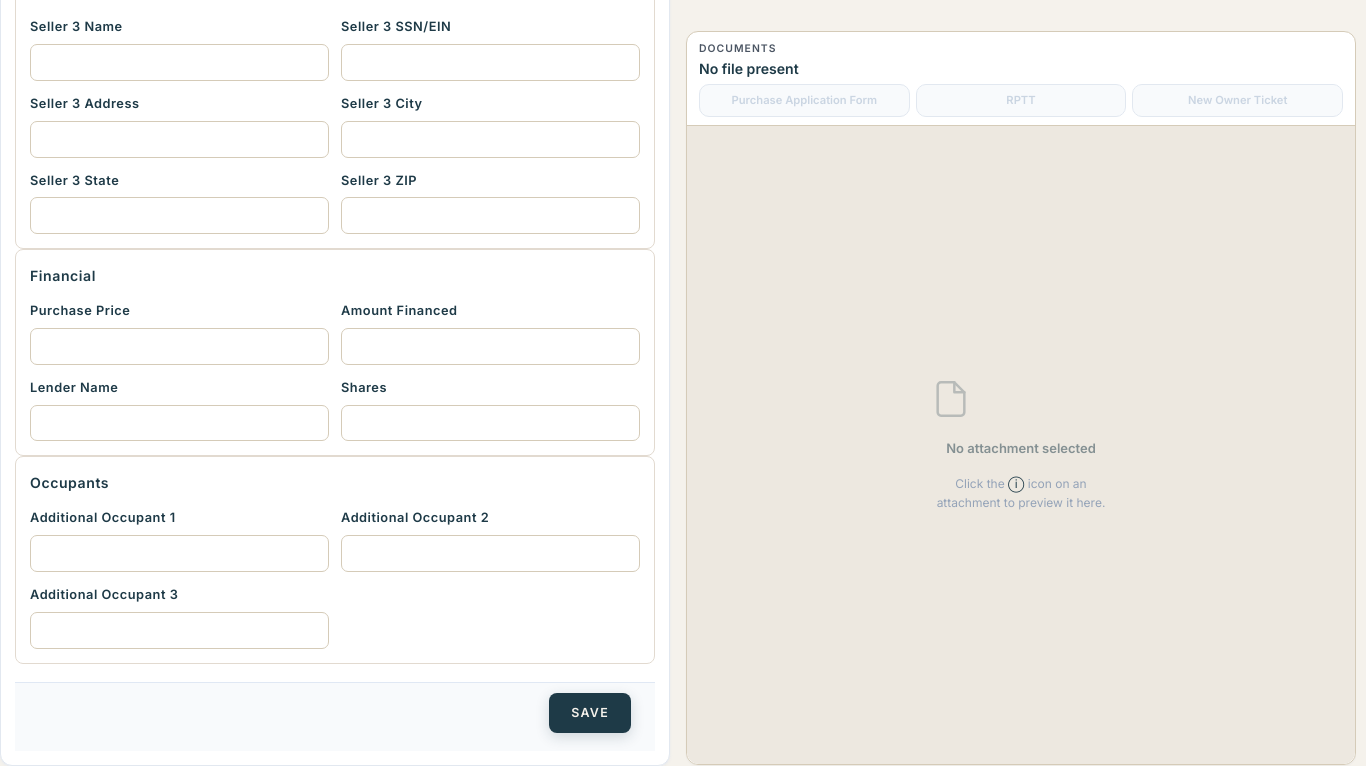
NewOwnerTicketTab — save flow against an existing ticket › blocks save and shows an error banner when required fields are missing
(page scrolled)
What coordinates should you click on to do the following:
click the button "Save"
I would click on:
 (590, 713)
Its box is 549,693 -> 631,733.
(page scrolled)
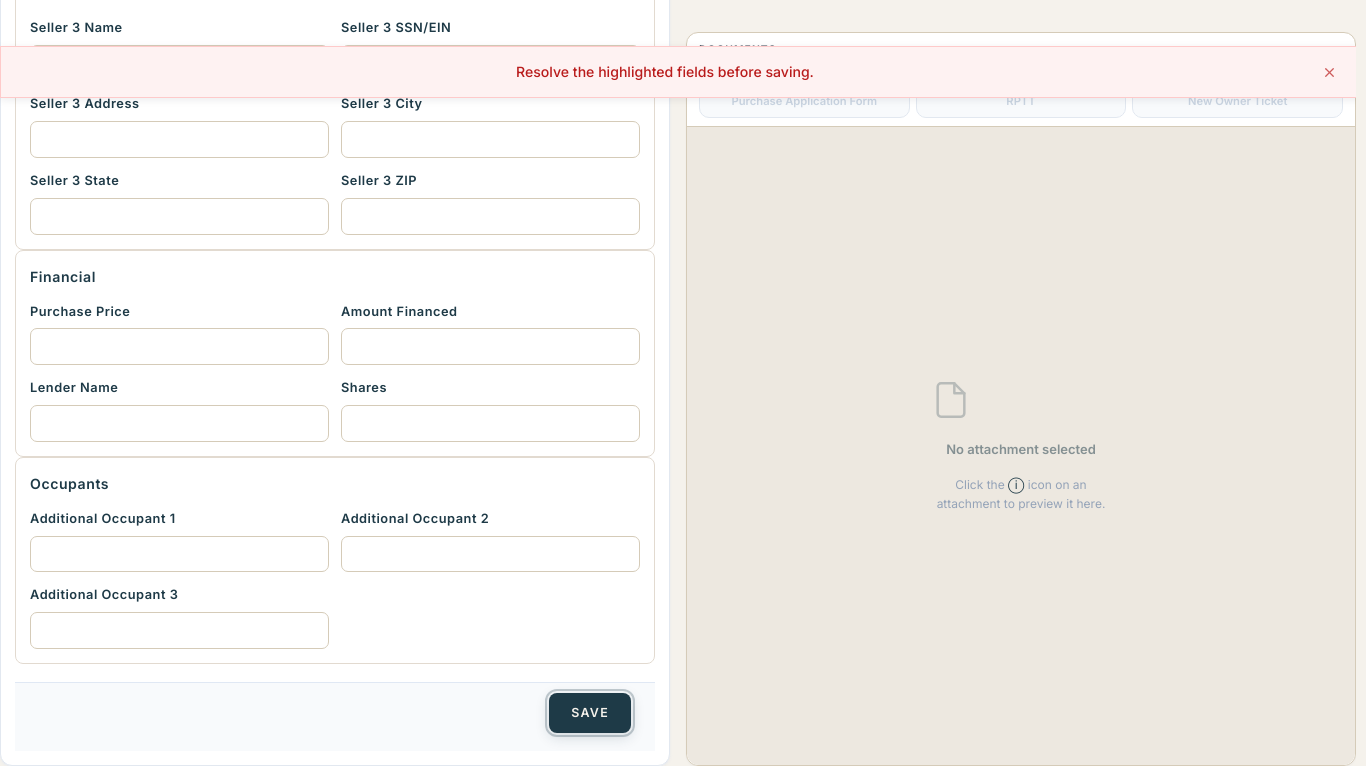
Result: the text "Resolve the highlighted fields before saving." is shown at 516,63 -> 814,80
